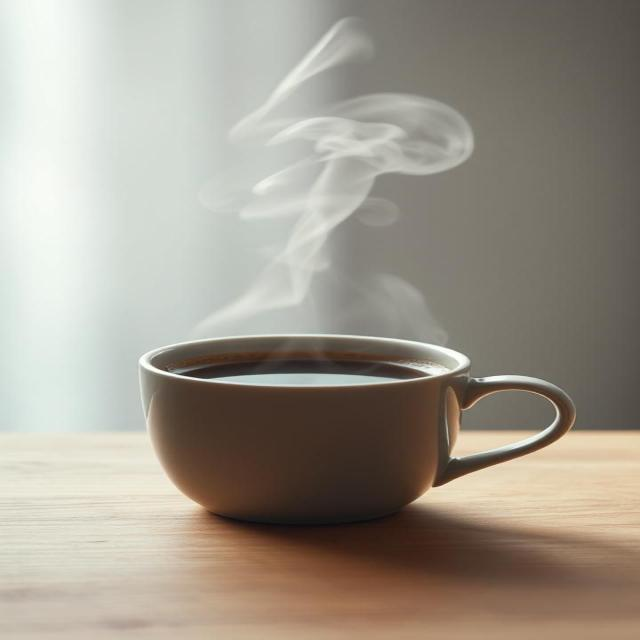glass cup: (141, 334, 578, 524)
